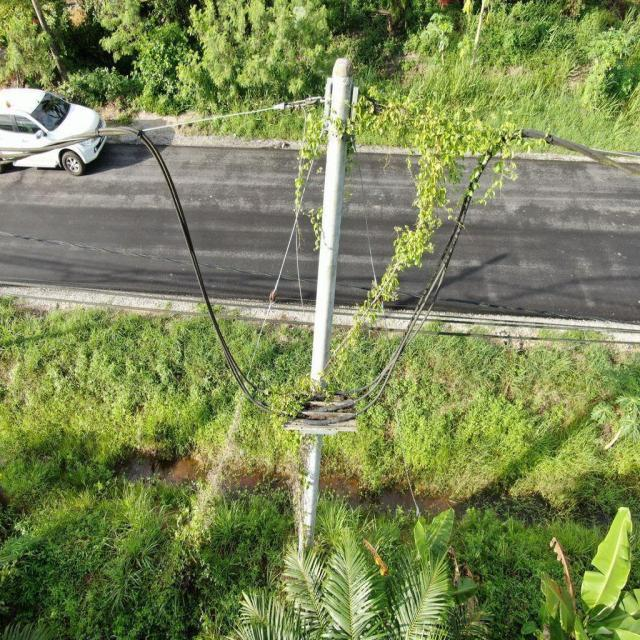critical vegetation: (277, 74, 554, 343), (174, 386, 252, 552), (272, 371, 350, 537)
